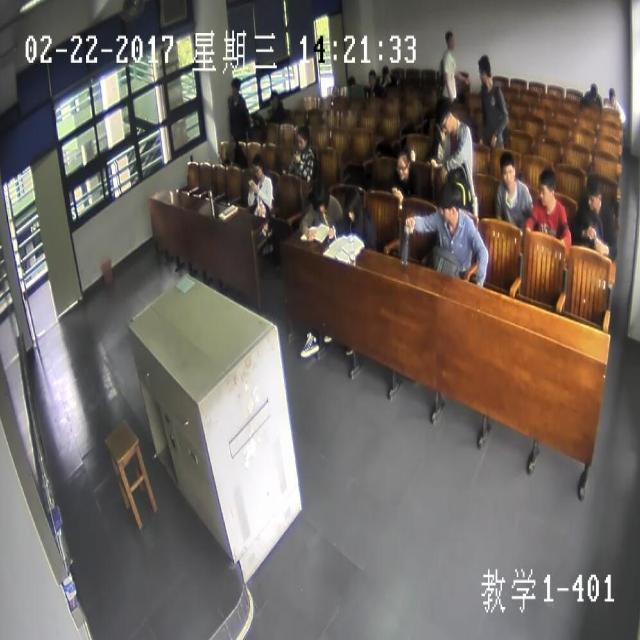person: (436, 183, 459, 221), (536, 166, 556, 206), (584, 172, 602, 210), (498, 149, 516, 186), (435, 98, 453, 132), (342, 188, 360, 220), (474, 56, 493, 85), (311, 182, 327, 210), (296, 123, 310, 151), (396, 146, 408, 178), (250, 153, 262, 180), (228, 77, 242, 96), (444, 28, 455, 48), (227, 130, 236, 150), (366, 68, 376, 86), (607, 85, 615, 106), (589, 82, 599, 98), (380, 65, 390, 80), (269, 90, 278, 106)
